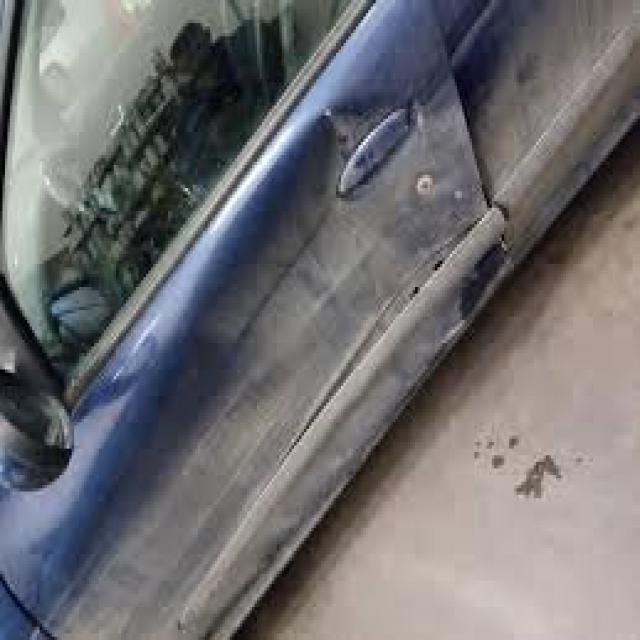damaged-door: (0, 0, 499, 640)
